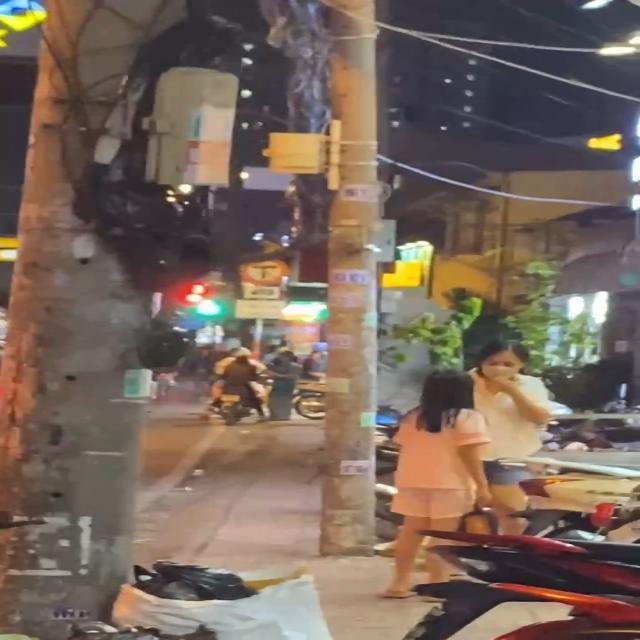137-cam-re-trai-va-re-phai: (238, 255, 288, 285)
